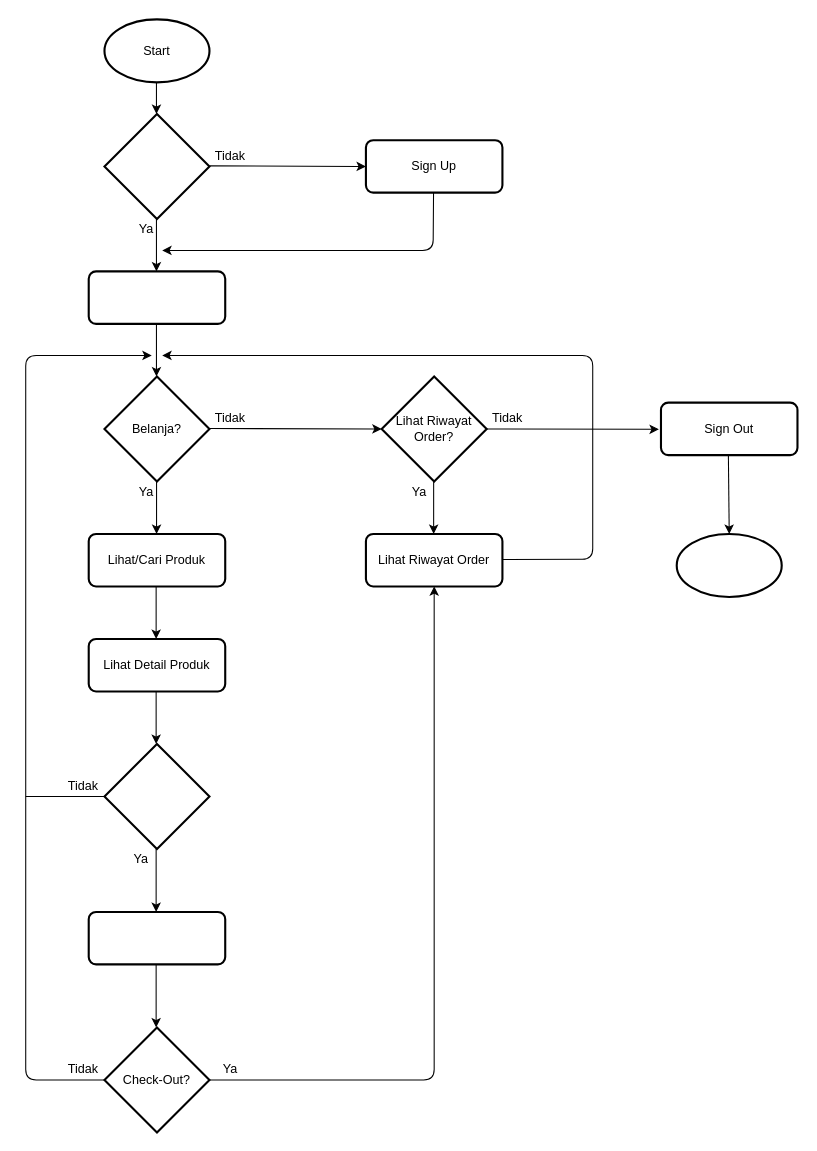
Image size: 817x1151. Some labels were removed from this diagram. Here are the shapes that lost their labels. From the top down, the centre of each, then its label:
point (156, 165): Sudah Punya Akun?
point (156, 297): Sign In
point (728, 564): End
point (156, 795): Add to Cart?
point (156, 937): Lihat Cart Item
